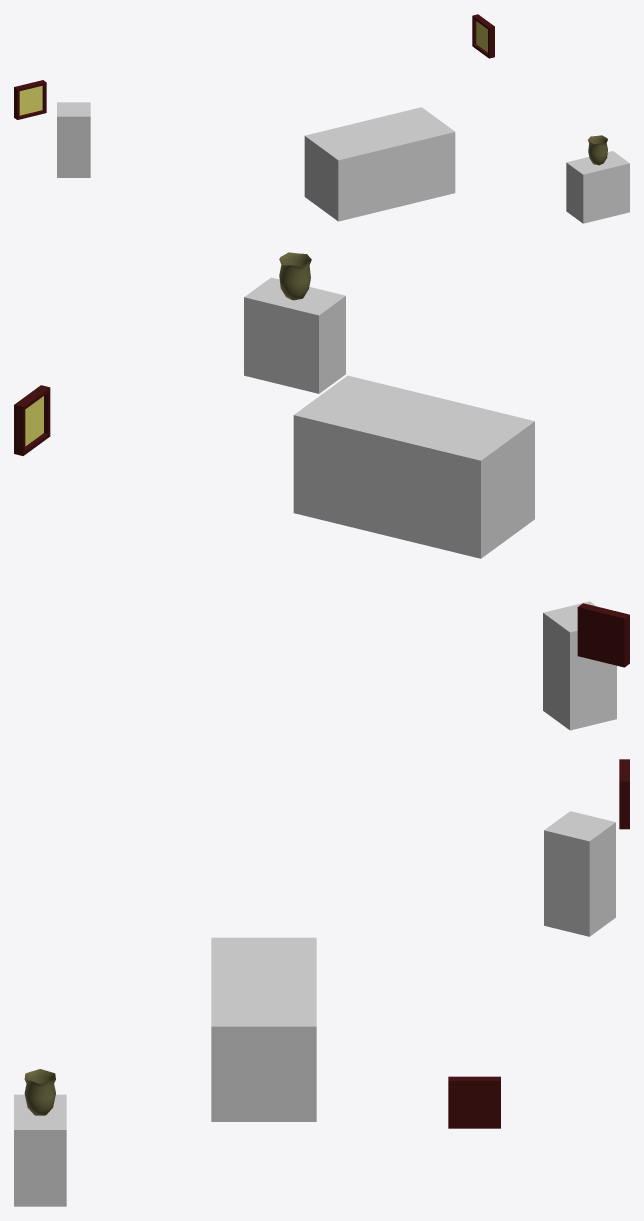
3 renders of one model, top to bottom at view 1: azimuth 30°, elevation 25°; view 2: azimuth 150°, elevation 25°; view 3: azimuth 270°, elevation 25°, orthographic. The views are drawn at different scales.
Parts seen in each view (by area): view 1: Cube.002, Cube.001, Cube, Picture.001, Picture, FlowerVase; view 2: Cube.002, Cube.001, Cube, Picture.001, Picture, FlowerVase; view 3: Cube.002, Cube, Cube.001, Picture, FlowerVase, Picture.001.
Boxes of the visible parts, left/top/right/bottom form: Cube.002: left=304, top=107, right=455, bottom=221; Cube.001: left=566, top=151, right=629, bottom=223; Cube: left=57, top=102, right=90, bottom=177; Picture.001: left=14, top=80, right=46, bottom=119; Picture: left=472, top=14, right=494, bottom=58; FlowerVase: left=588, top=135, right=607, bottom=165; Cube.002: left=293, top=375, right=534, bottom=558; Cube.001: left=244, top=277, right=345, bottom=393; Cube: left=543, top=601, right=616, bottom=730; Picture.001: left=577, top=603, right=629, bottom=667; Picture: left=14, top=385, right=50, bottom=455; FlowerVase: left=279, top=252, right=311, bottom=300; Cube.002: left=211, top=937, right=316, bottom=1121; Cube: left=544, top=811, right=615, bottom=936; Cube.001: left=14, top=1094, right=66, bottom=1206; Picture: left=448, top=1076, right=500, bottom=1128; FlowerVase: left=24, top=1069, right=55, bottom=1115; Picture.001: left=619, top=759, right=629, bottom=829.
Bounding box in the file's own units: 1445 × 270 × 1170.
